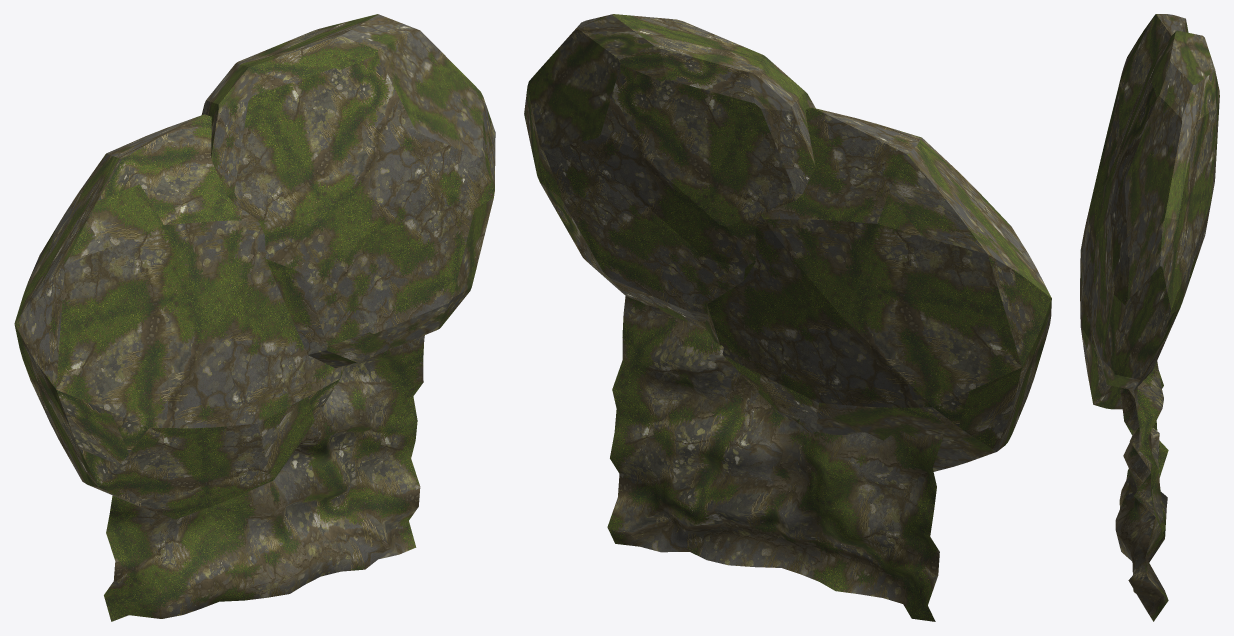
File: mur_a_tester_aussi_peut_etre_mieux_car_sans_UV_attach.fbx
3 renders of one model, left to right at view 1: azimuth 30°, elevation 25°; view 2: azimuth 150°, elevation 25°; view 3: azimuth 270°, elevation 25°, orthographic. The views are drawn at different scales.
Parts seen in each view (by area): view 1: Plane001; view 2: Plane001; view 3: Plane001.
Part boxes in pixels (<box>): Plane001: <box>14,14,495,621</box>; Plane001: <box>524,14,1051,621</box>; Plane001: <box>1080,14,1219,621</box>.
Size of the model in its own units: 888 by 903 by 217.
